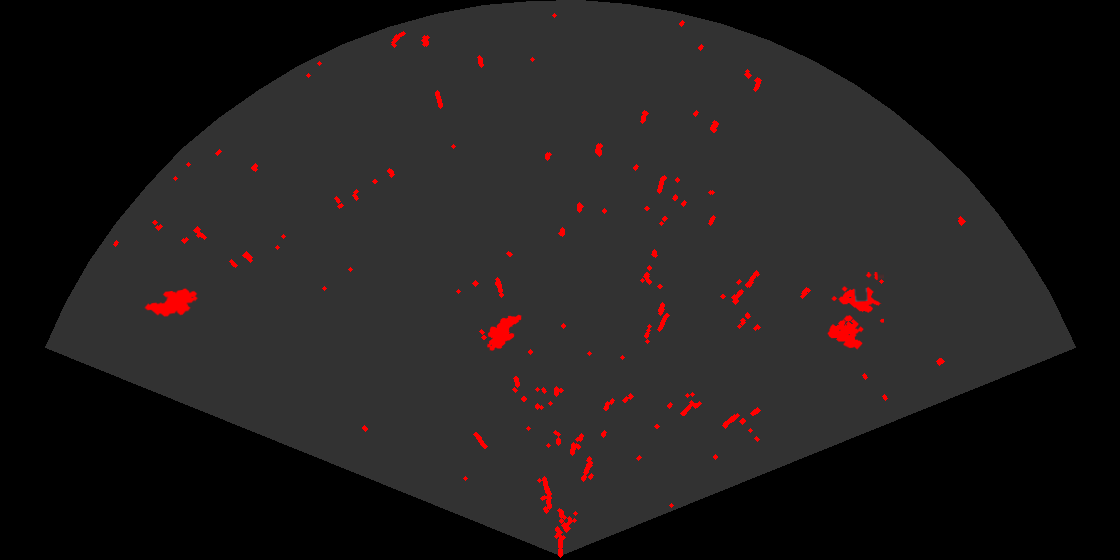AUV: (143, 286, 200, 318), (485, 313, 523, 352)
cage: (826, 272, 884, 351)
